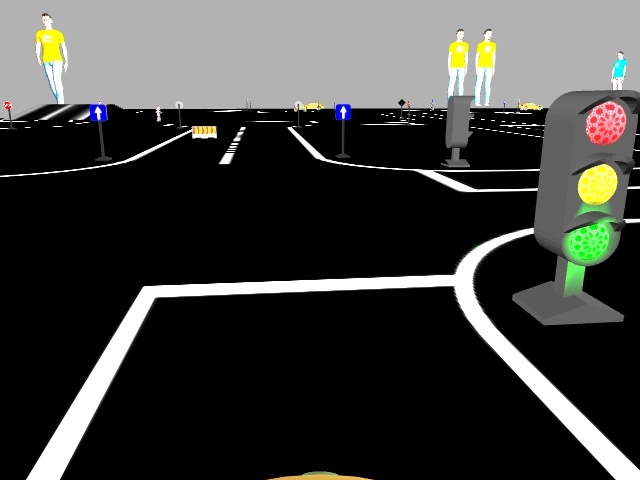ClosedRoadStand: (191, 125, 216, 138)
OneWay: (90, 104, 106, 119), (336, 104, 348, 119)
TrafficLight: (544, 87, 634, 269)
